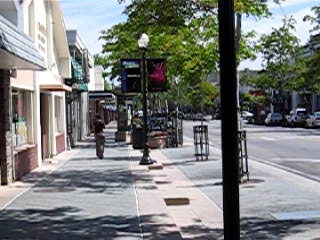person: (93, 113, 108, 160), (92, 113, 107, 160), (94, 113, 109, 160), (93, 112, 108, 159), (93, 114, 108, 161)
target_negative: (164, 124, 254, 178), (103, 184, 244, 212), (253, 149, 271, 200), (266, 191, 318, 207), (46, 230, 124, 235), (199, 220, 221, 224)
